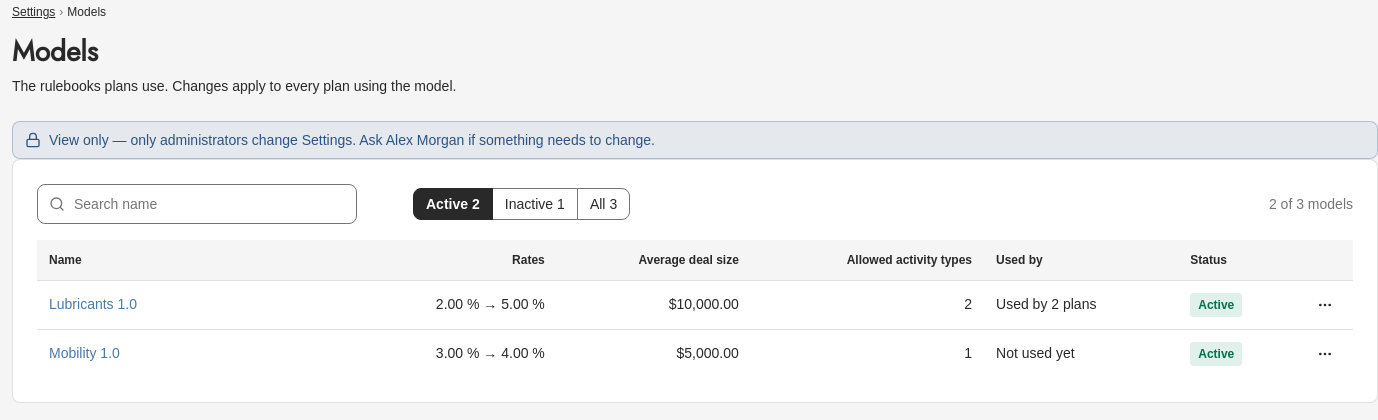
Light access gating (feature 014, FR-011, FR-012) › shows a Settings list read-only, with one View only note and no change actions
Expected: the table is shown, [37, 240, 1353, 378]
Expected: the text "View only — only administrators change Settings. Ask Alex Morgan if something needs to change." is shown, [49, 132, 655, 148]
What coordinates should you click on to do the following:
click the button named "Actions for Lubricants 1.0"
I would click on:
 (1325, 304)
Its box is [1309, 288, 1341, 320].
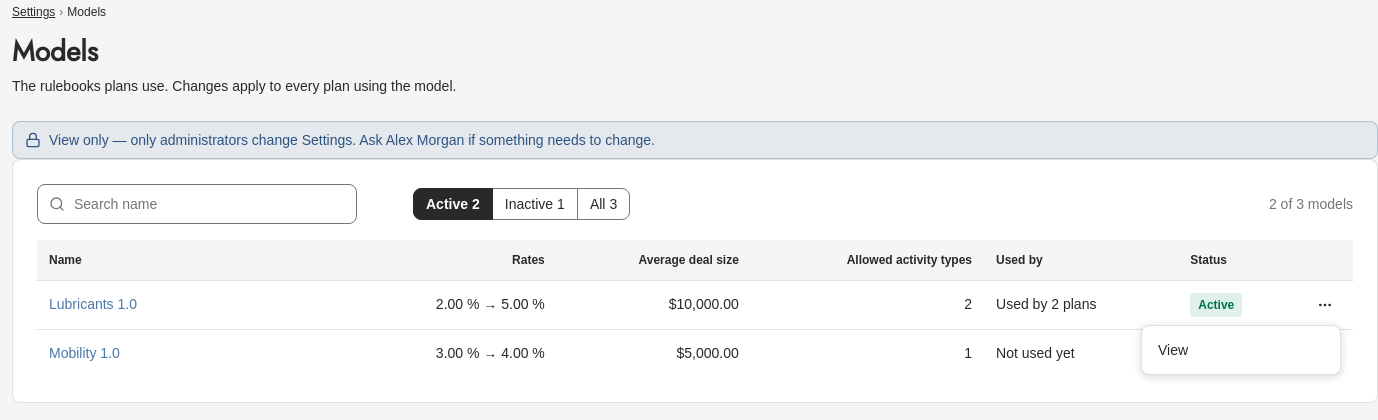
Expected: the menu items read "View", in this order, [1158, 342, 1188, 358]
